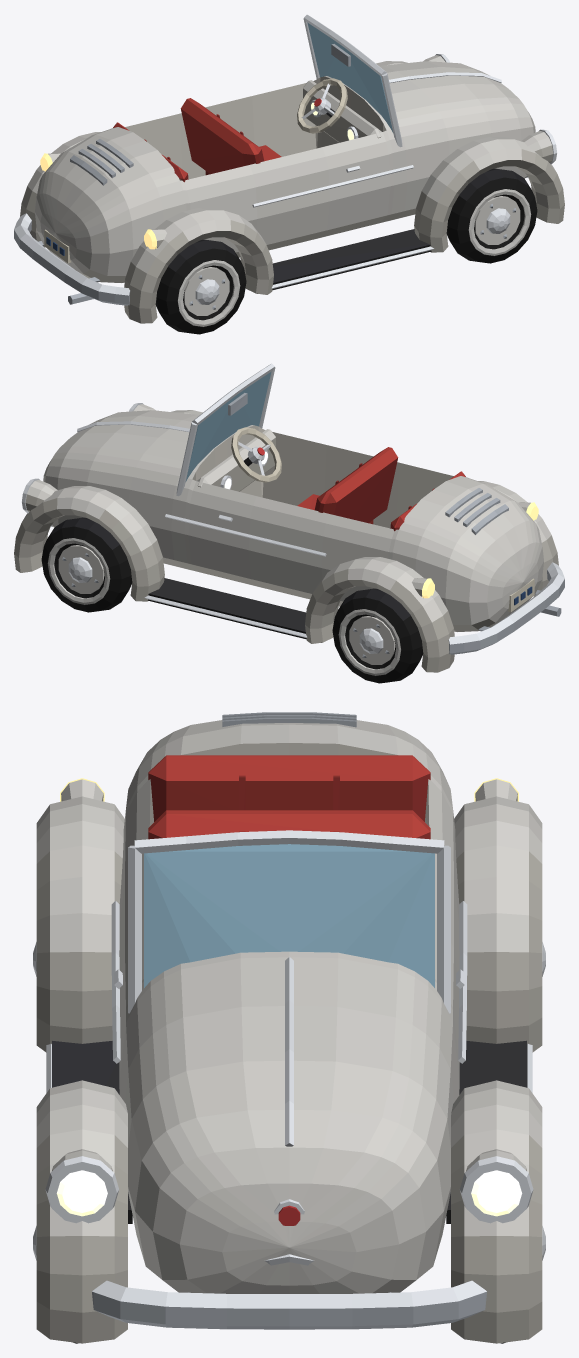
File: mt_car_white.glb
The picture shows the model from 3 angles, top to bottom: view 1: azimuth 30°, elevation 25°; view 2: azimuth 150°, elevation 25°; view 3: azimuth 270°, elevation 25°; orthographic projection. The views are drawn at different scales.
Parts seen in each view (by area): view 1: base, wheel1_m, wheel3_m, steer_m; view 2: base, wheel0_m, wheel2_m, steer_m; view 3: base.
Part boxes in pixels (x1=…): base: x1=14, y1=14, x2=564, y2=323; wheel1_m: x1=446, y1=168, x2=537, y2=263; wheel3_m: x1=155, y1=239, x2=246, y2=334; steer_m: x1=297, y1=78, x2=347, y2=133; base: x1=14, y1=363, x2=564, y2=672; wheel0_m: x1=41, y1=517, x2=132, y2=612; wheel2_m: x1=332, y1=588, x2=423, y2=683; steer_m: x1=231, y1=427, x2=281, y2=482; base: x1=36, y1=712, x2=542, y2=1343.
Bounding box in the file's own units: 0.9881 × 0.4052 × 0.458.
